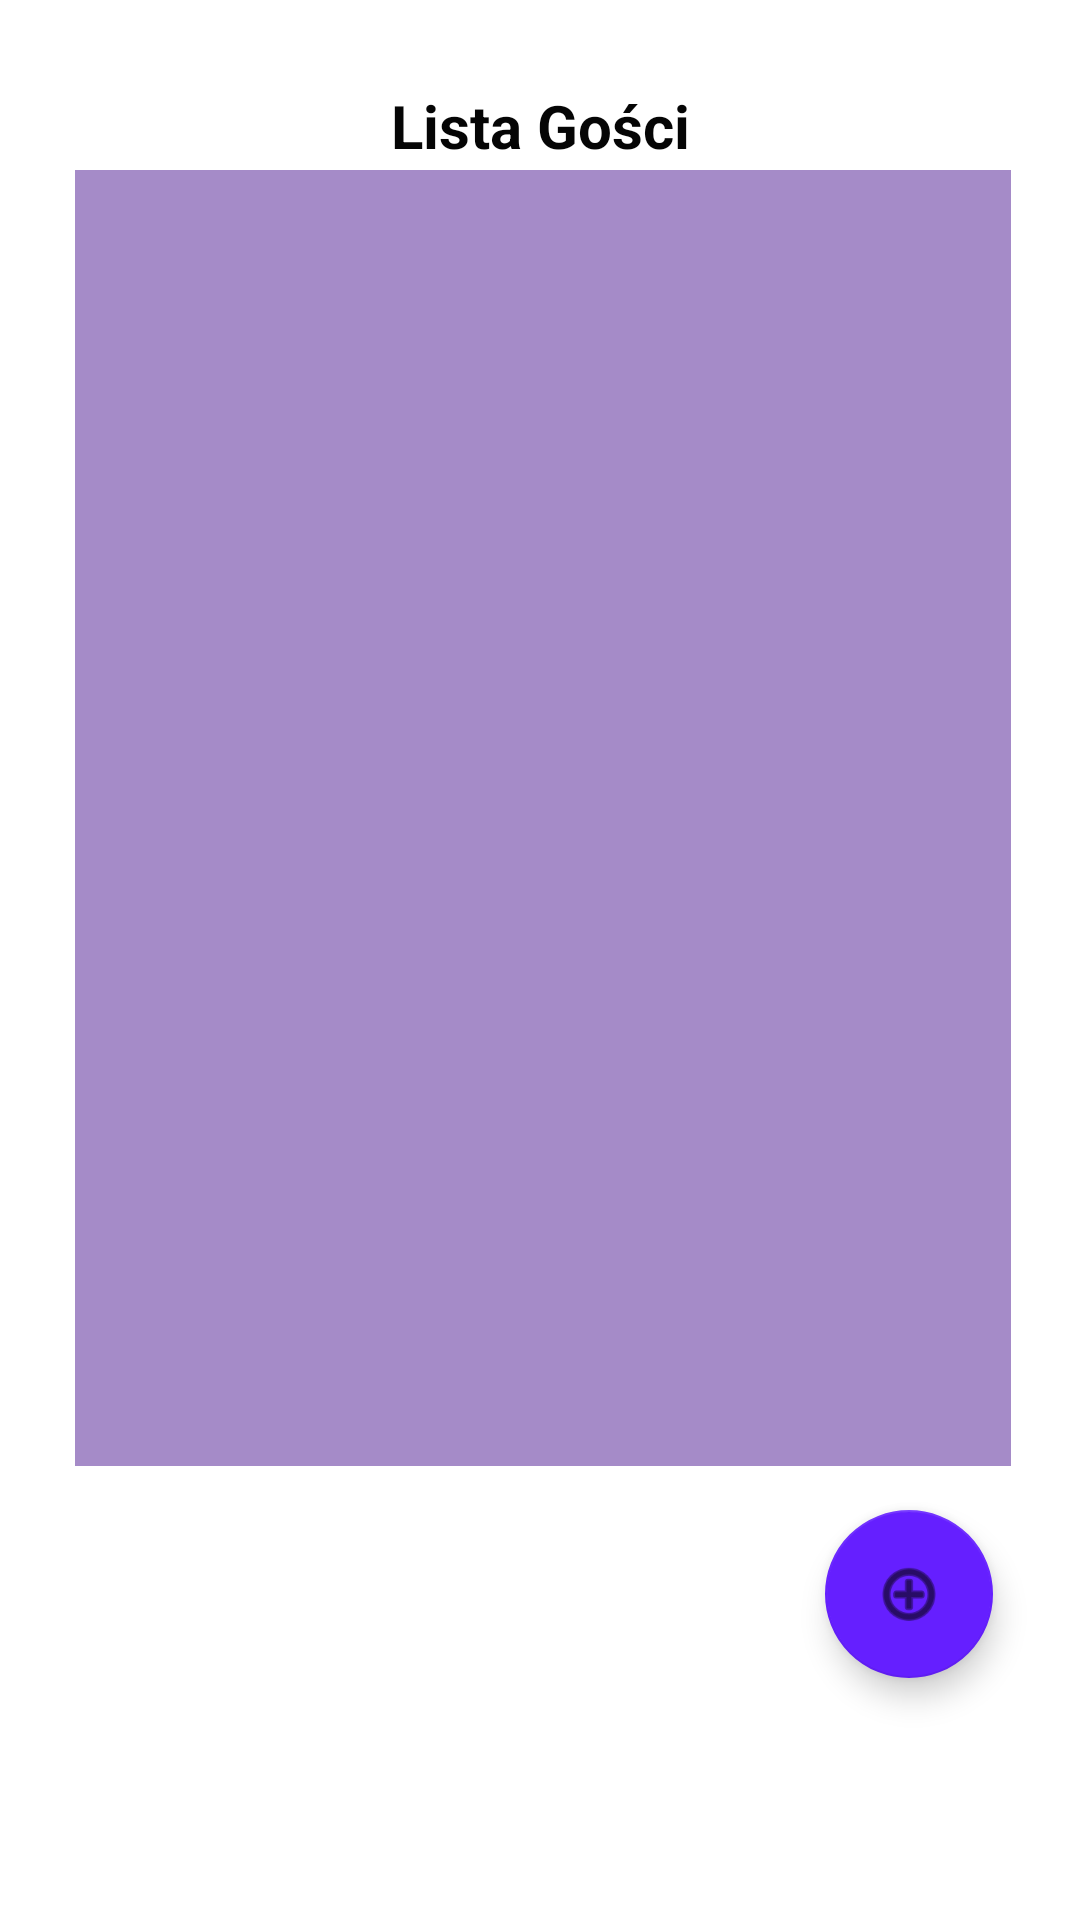

Named icons in this screenshot (1080px×1920px) and their centers, point (x, y):
add: point (909, 1594)
